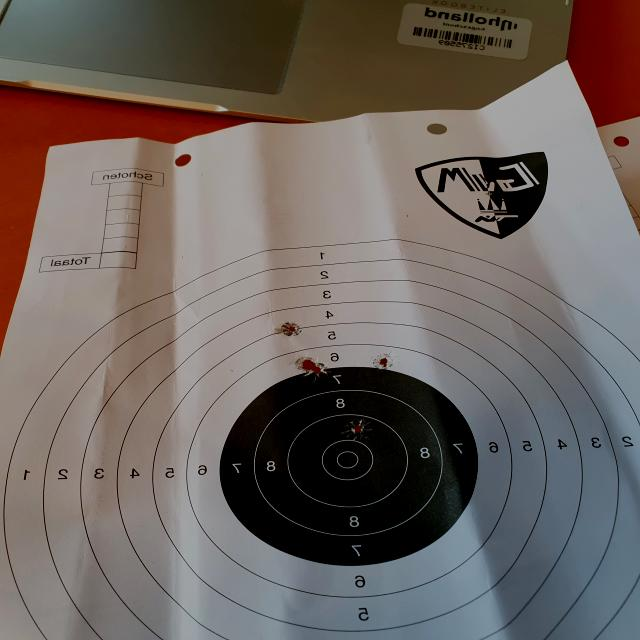5: (274, 321, 303, 336)
6: (294, 353, 317, 374)
7: (369, 351, 395, 369), (309, 363, 331, 381)
8: (340, 418, 372, 439)
Target: (0, 240, 640, 640)
black_contour: (219, 366, 480, 567)
